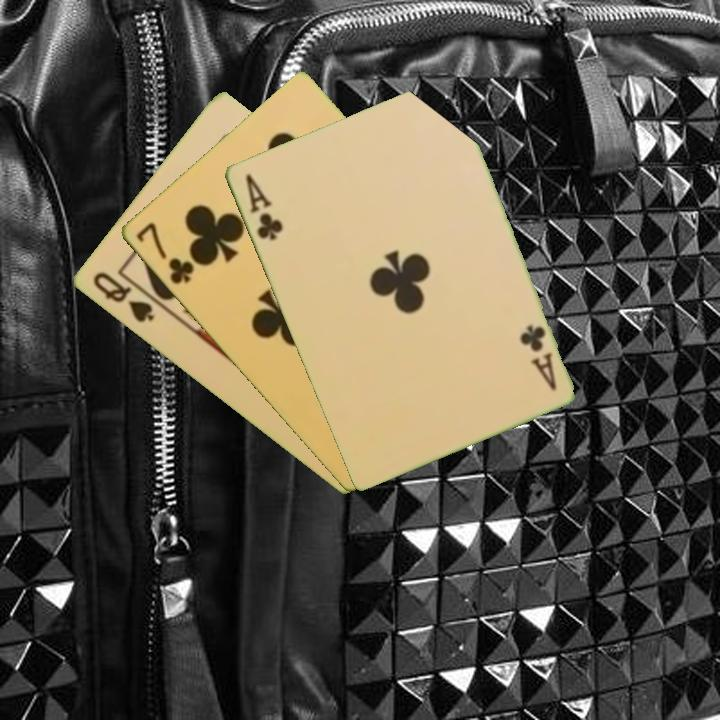7c: (132, 218, 197, 287)
Ac: (241, 170, 285, 243), (516, 320, 559, 393)
Qs: (88, 268, 157, 326)
